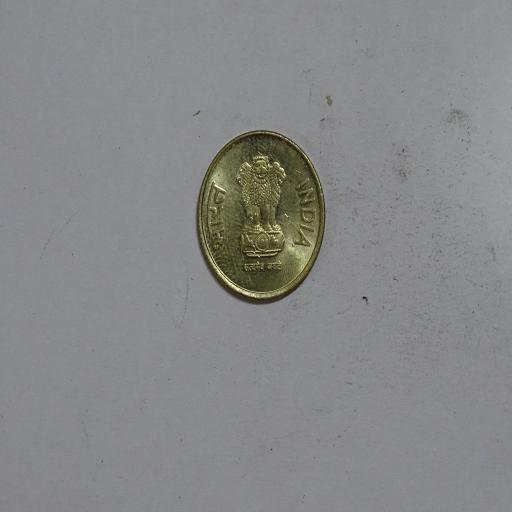rupee5: (194, 128, 327, 305)
